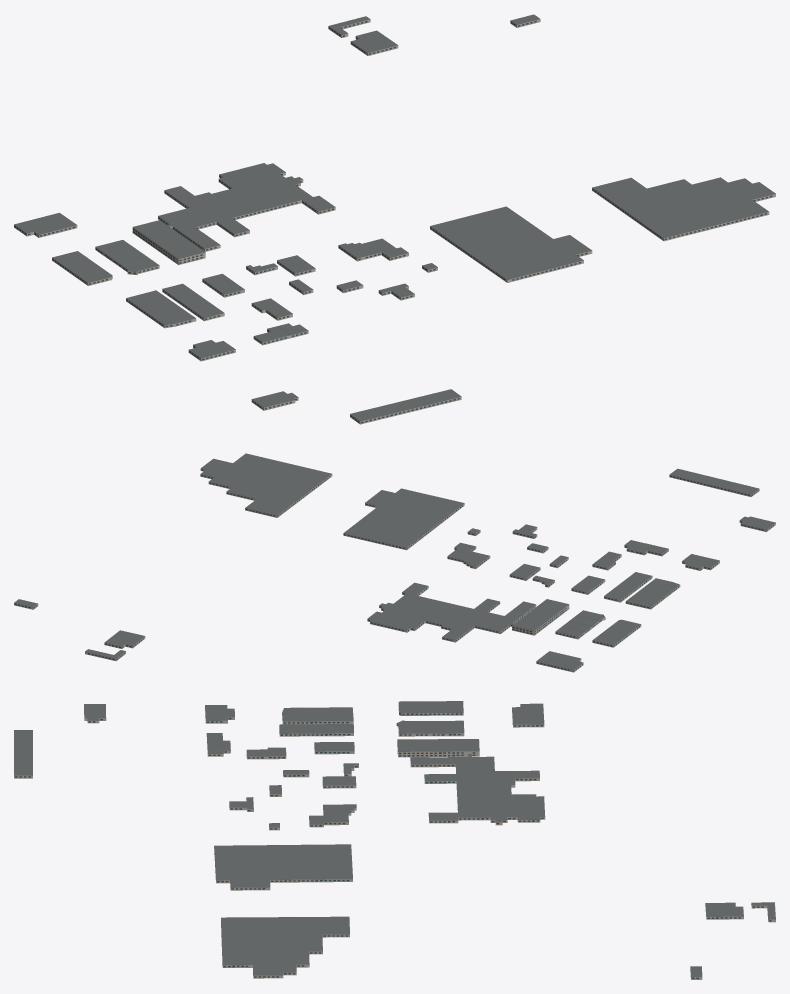
3 views of the same model, one above another, from view 1: azimuth 30°, elevation 25°; view 2: azimuth 150°, elevation 25°; view 3: azimuth 270°, elevation 25° (orthographic). The views are drawn at different scales.
Visible parts, largest first — view 1: Buildings (-2, -5) Roof membrane, Buildings (-2, -5) Masonry brick, Buildings (-2, -5) Architectural tinted glass, Buildings (-2, -5) Metal coping; view 2: Buildings (-2, -5) Roof membrane, Buildings (-2, -5) Masonry brick, Buildings (-2, -5) Architectural tinted glass, Buildings (-2, -5) Metal coping; view 3: Buildings (-2, -5) Roof membrane, Buildings (-2, -5) Masonry brick, Buildings (-2, -5) Architectural tinted glass, Buildings (-2, -5) Metal coping.
Boxes of the visible parts, x1,y1,x2,y2 form: Buildings (-2, -5) Roof membrane: (14, 14, 775, 421); Buildings (-2, -5) Masonry brick: (14, 19, 775, 424); Buildings (-2, -5) Architectural tinted glass: (14, 20, 772, 423); Buildings (-2, -5) Metal coping: (14, 14, 775, 421); Buildings (-2, -5) Roof membrane: (14, 453, 775, 669); Buildings (-2, -5) Masonry brick: (14, 468, 775, 672); Buildings (-2, -5) Architectural tinted glass: (14, 469, 773, 671); Buildings (-2, -5) Metal coping: (14, 454, 775, 669); Buildings (-2, -5) Roof membrane: (14, 701, 775, 976); Buildings (-2, -5) Masonry brick: (14, 708, 775, 979); Buildings (-2, -5) Architectural tinted glass: (15, 711, 771, 978); Buildings (-2, -5) Metal coping: (14, 701, 771, 977).
Size of the model in its own units: 729 by 8.13 by 855.
